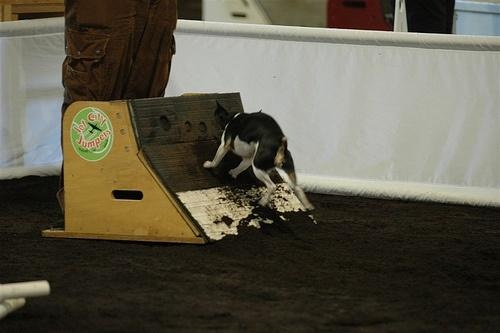dog: (205, 102, 318, 213)
